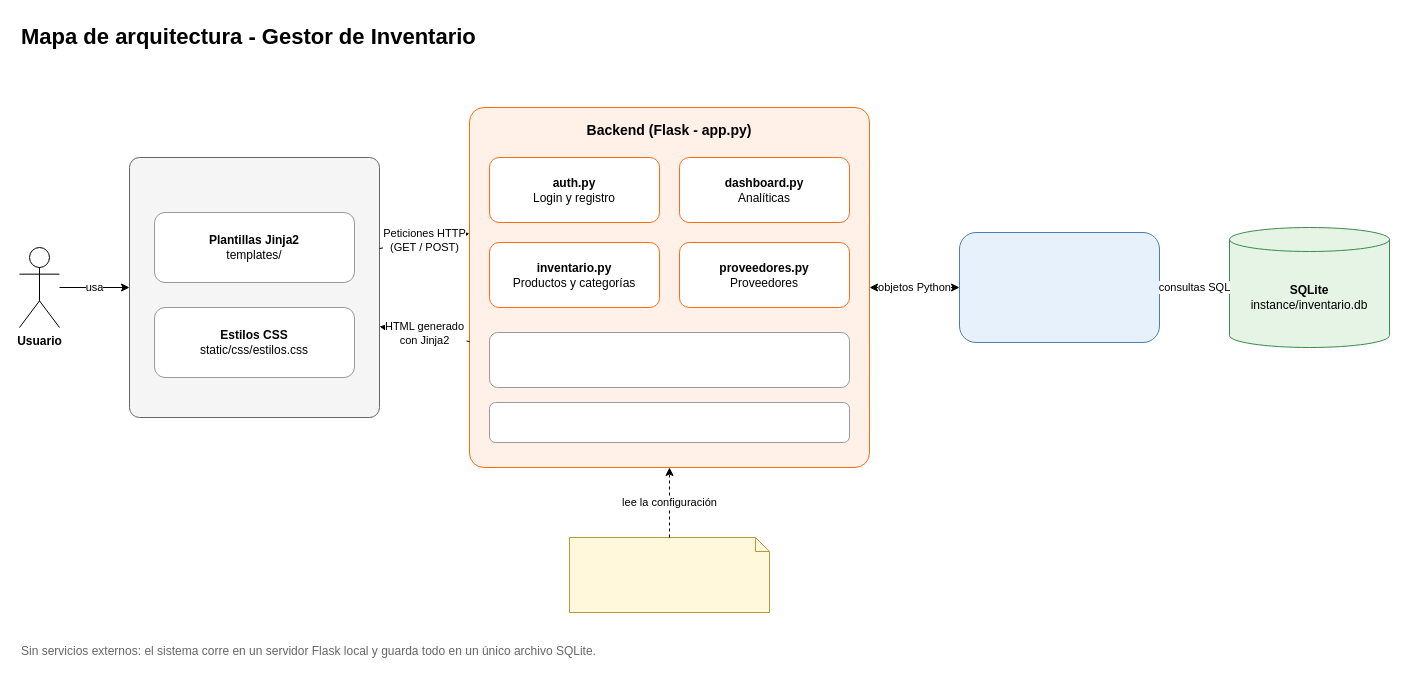
Some shapes in this 1407 by 684 pixel diagram are drawn without their labels. Each missing label, with the box of its shape:
Archivo .env SECRET_KEY, DATABASE_URL (no se sube a GitHub): (568, 536, 770, 612)
config.py: (488, 402, 850, 442)
extensiones.py Flask-Login (sesiones) + Flask-Bcrypt (contraseñas): (488, 332, 850, 388)
Frontend (navegador): (128, 156, 380, 418)
ORM Flask-SQLAlchemy models.py Usuario, Categoria, Proveedor, Producto: (958, 232, 1160, 342)
